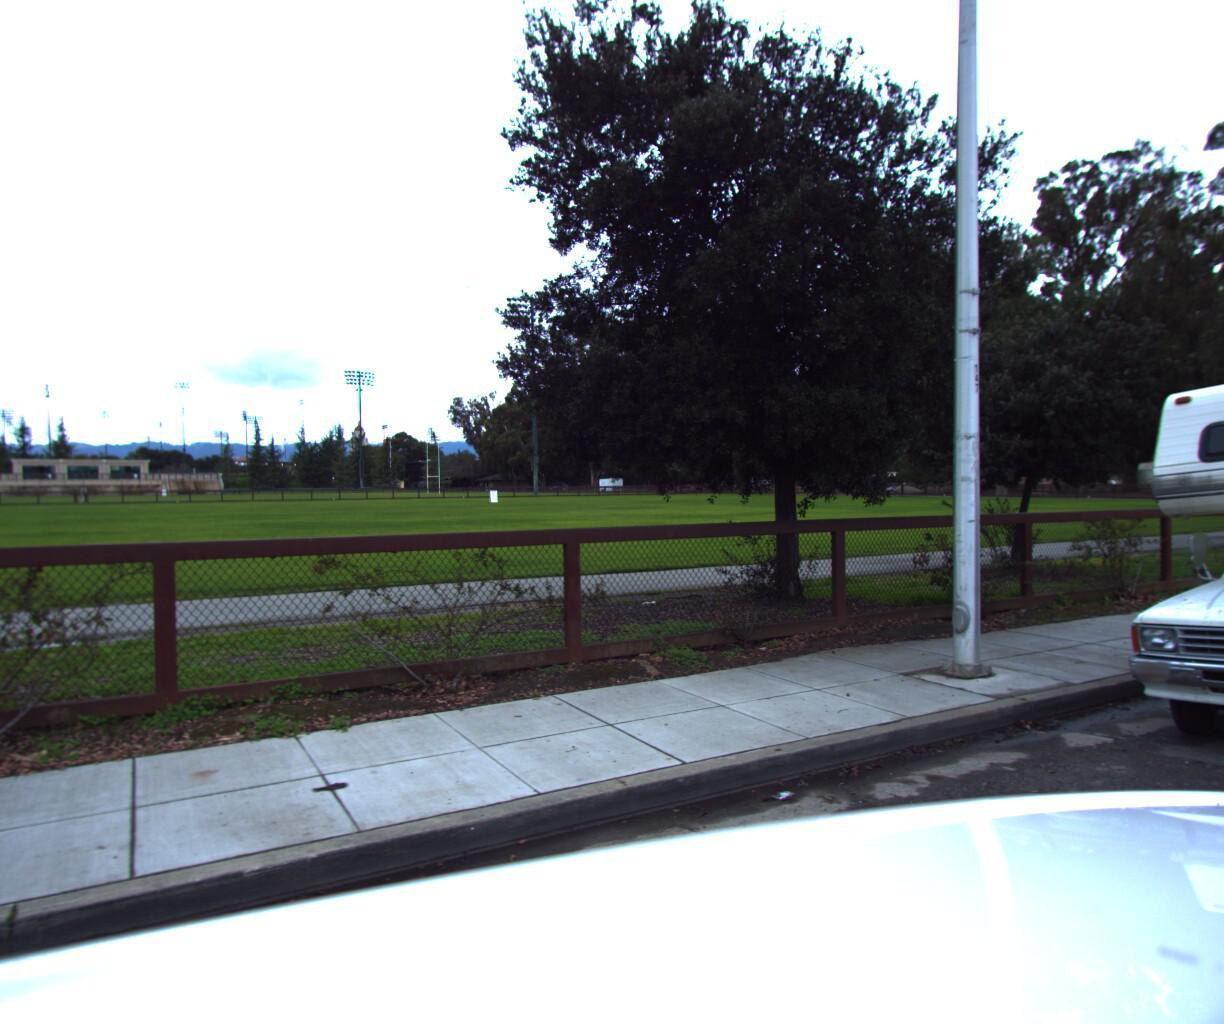other_vehicle: (1035, 216, 1224, 834)
